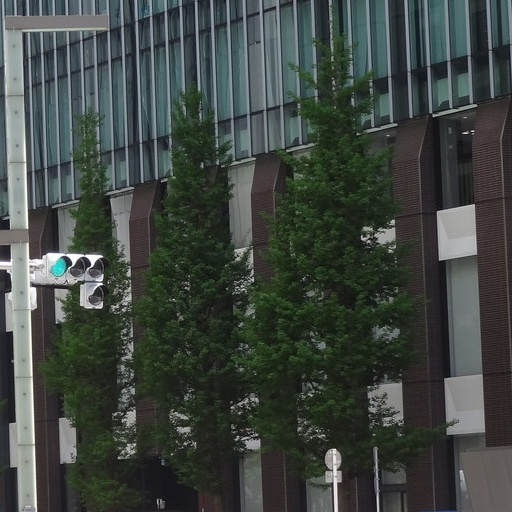Traffic_Signal_Blue: (38, 240, 108, 287)
